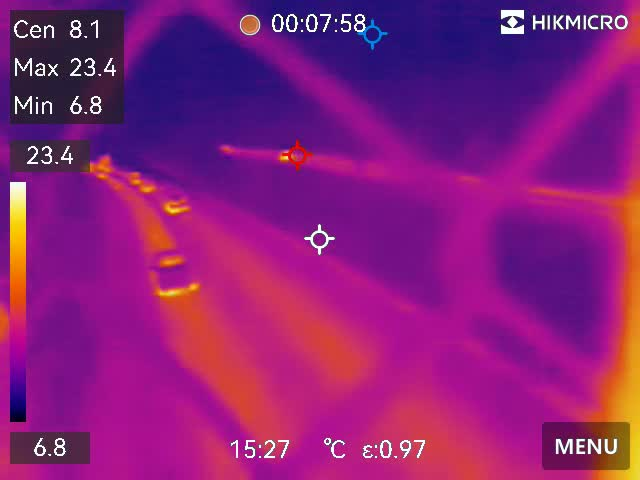vehicle: (149, 249, 203, 298), (157, 195, 195, 217), (134, 180, 152, 194)
